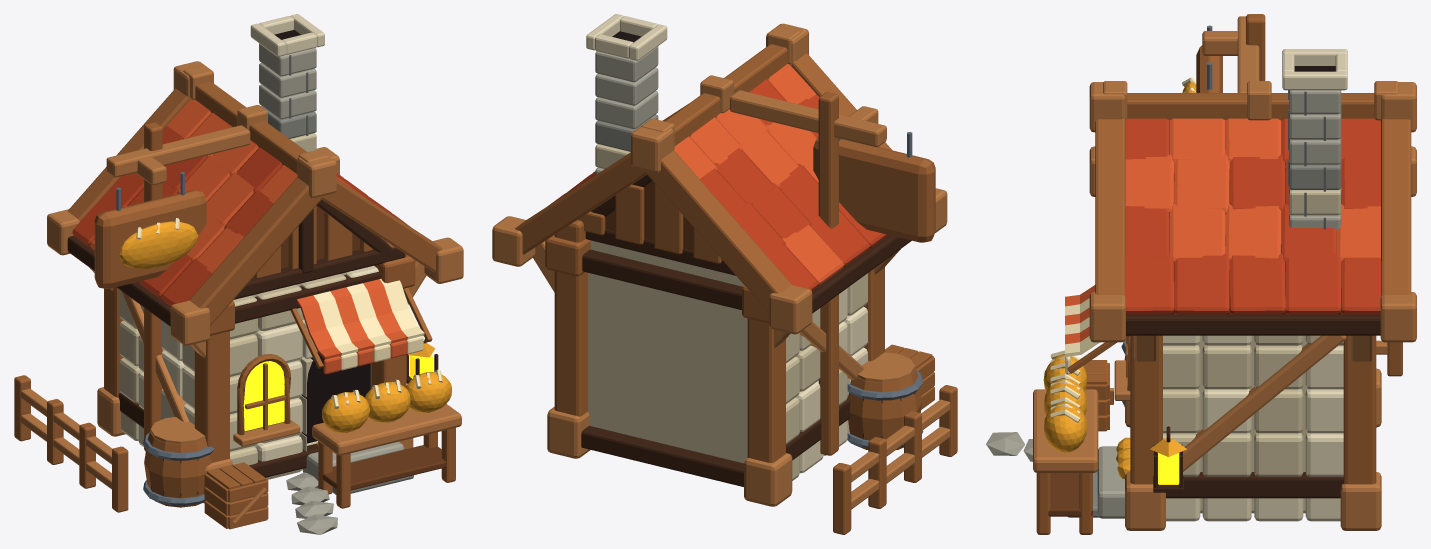
Rendered from bakery.glb.
The picture shows the model from 3 angles, left to right: view 1: azimuth 30°, elevation 25°; view 2: azimuth 150°, elevation 25°; view 3: azimuth 270°, elevation 25°; orthographic projection. The views are drawn at different scales.
Visible parts, largest first — view 1: Carved roof verge, Bakery wooden sign, Corner upright, Baker market counter, Carved roof verge.002, Barrel staves, Bakery hanging sign beam, Counter lower shelf, Bakery sign post, Hero golden bread loaf.003, Ridge timber, Gable tie beam (+79 smaller); view 2: Cottage walls, Bakery wooden sign, Carved roof verge.001, Bakery sign post, Corner upright.003, Corner upright.001, Wall cross beam.001, Carved roof verge.003, Wall cross beam.003, Bakery hanging sign beam, Barrel staves, Ridge timber (+55 smaller); view 3: Roof eave.001, Carved roof verge.002, Carved roof verge.003, Ridge timber, Corner upright.003, Corner upright.002, Side wall diagonal.001, Side wall lower tie.001, Overlapping roof tile.037, Overlapping roof tile.038, Overlapping roof tile.036, Baker market counter (+66 smaller).
Part boxes in pixels (x1,y1,x2,y2): Carved roof verge: (189, 177, 322, 325); Bakery wooden sign: (94, 190, 206, 288); Corner upright: (194, 331, 229, 462); Baker market counter: (312, 404, 461, 455); Carved roof verge.002: (322, 179, 442, 272); Barrel staves: (144, 431, 211, 507); Bakery hanging sign beam: (106, 125, 250, 177); Counter lower shelf: (318, 445, 446, 490); Bakery sign post: (144, 122, 162, 451); Hero golden bread loaf.003: (119, 221, 198, 269); Ridge timber: (195, 81, 307, 173); Gable tie beam: (234, 247, 405, 299); Cottage walls: (588, 240, 747, 463); Bakery wooden sign: (813, 136, 935, 242); Carved roof verge.001: (646, 150, 792, 312); Bakery sign post: (818, 92, 838, 455); Corner upright.003: (554, 220, 587, 416); Corner upright.001: (747, 318, 785, 462); Wall cross beam.001: (581, 425, 743, 486); Carved roof verge.003: (515, 152, 646, 254); Wall cross beam.003: (582, 249, 742, 309); Bakery hanging sign beam: (730, 90, 886, 147); Barrel staves: (848, 368, 922, 449); Ridge timber: (665, 44, 787, 145); Roof eave.001: (1126, 313, 1380, 335); Carved roof verge.002: (1095, 119, 1125, 295); Carved roof verge.003: (1381, 119, 1411, 295); Ridge timber: (1127, 93, 1374, 120); Corner upright.003: (1343, 335, 1376, 484); Corner upright.002: (1130, 335, 1162, 484); Side wall diagonal.001: (1157, 335, 1346, 475); Side wall lower tie.001: (1166, 472, 1343, 498); Overlapping roof tile.037: (1229, 253, 1285, 314); Overlapping roof tile.038: (1285, 253, 1341, 314); Overlapping roof tile.036: (1174, 253, 1229, 314); Baker market counter: (1033, 389, 1098, 472).
Bounding box in the file's own units: 3.61 × 4.08 × 3.56.
